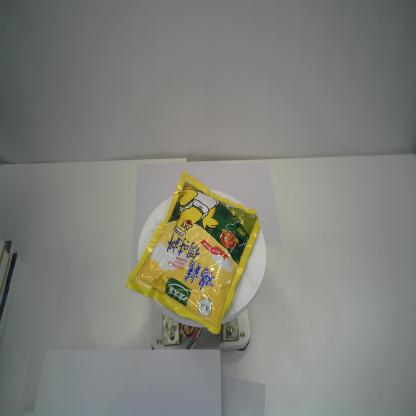Seasoner: (126, 171, 260, 335)
